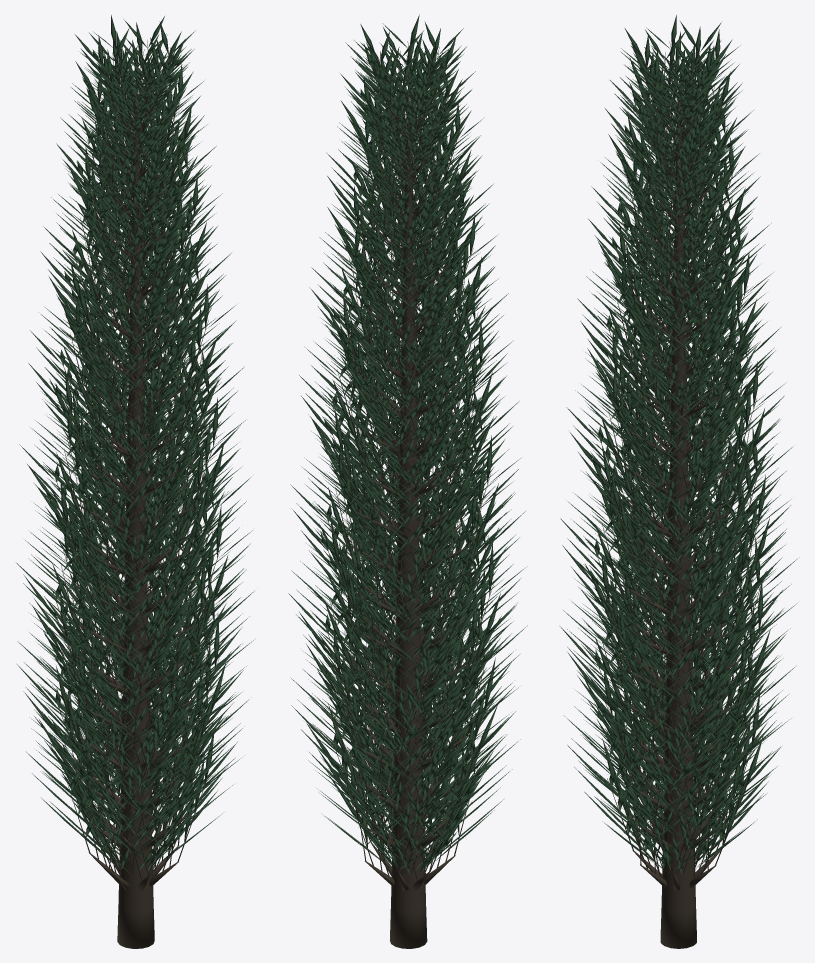
The model's file is hq_cypress_cc0_drawmerged.glb.
3 views of the same model, side by side, from view 1: azimuth 30°, elevation 25°; view 2: azimuth 150°, elevation 25°; view 3: azimuth 270°, elevation 25° (orthographic).
Visible parts, largest first — view 1: Closed conifer needle sprays, Evergreen connected main bough; view 2: Closed conifer needle sprays, Evergreen connected main bough; view 3: Closed conifer needle sprays, Evergreen connected main bough.
Boxes of the visible parts, x1=… form: Closed conifer needle sprays: x1=16, y1=15, x2=254, y2=873; Evergreen connected main bough: x1=52, y1=40, x2=220, y2=948; Closed conifer needle sprays: x1=288, y1=14, x2=527, y2=874; Evergreen connected main bough: x1=324, y1=41, x2=493, y2=948; Closed conifer needle sprays: x1=560, y1=15, x2=799, y2=874; Evergreen connected main bough: x1=594, y1=42, x2=763, y2=948.
Bounding box in the file's own units: 2.94 × 12 × 2.93.
2 materials, 2 textured.
